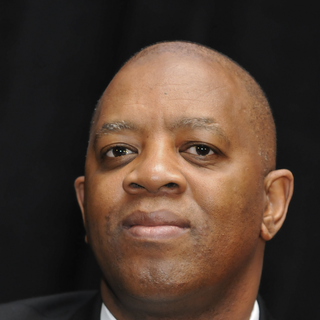eye: (178, 136, 226, 164), (98, 139, 140, 164)
